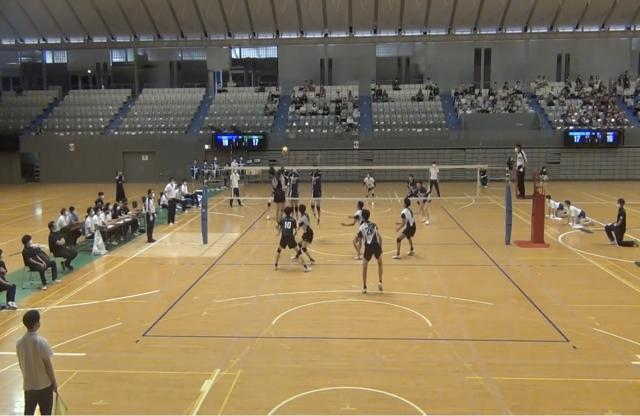spike: (268, 147, 296, 228)
